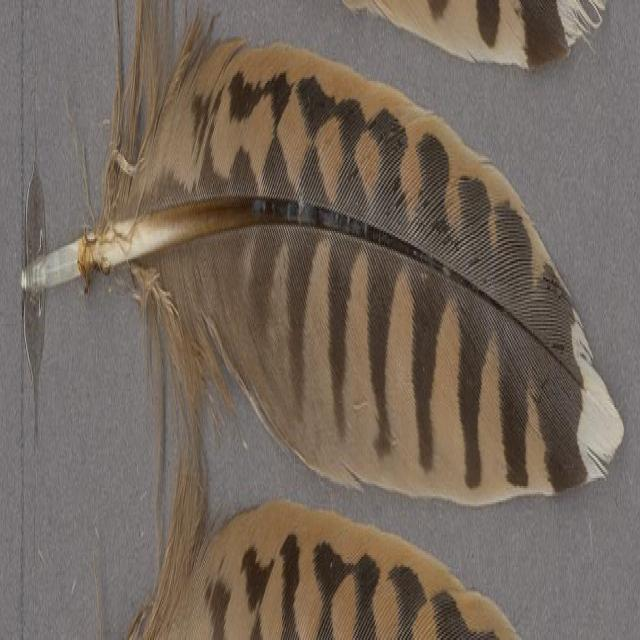feather: (24, 0, 626, 527)
